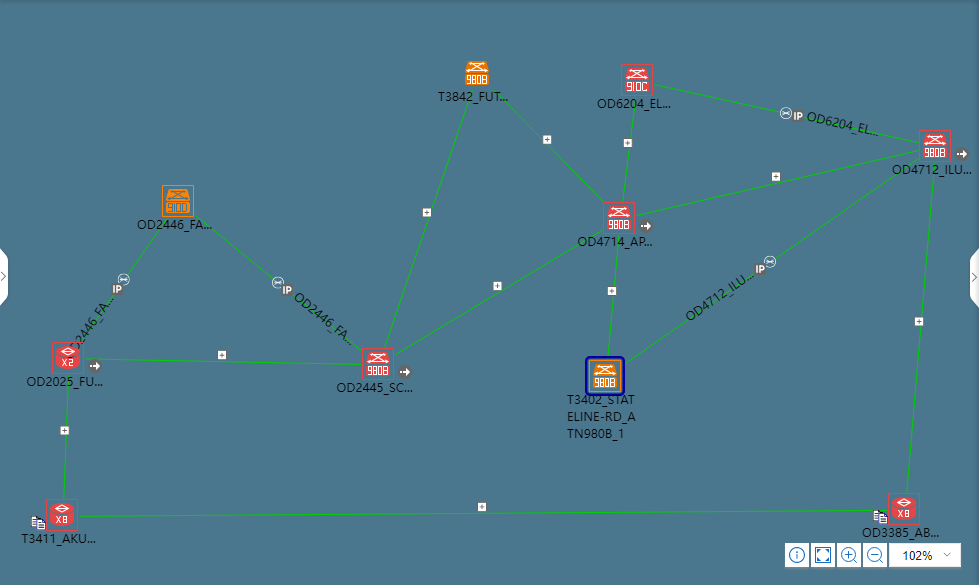ATN_Orange: (162, 185, 190, 214), (590, 363, 618, 390), (468, 63, 491, 84)
ATN_Red: (621, 63, 656, 98), (603, 204, 638, 231), (364, 351, 393, 380), (921, 130, 948, 159)
Link_Green: (627, 161, 910, 360), (395, 228, 600, 354), (382, 88, 479, 349), (199, 216, 363, 355), (639, 149, 913, 221), (652, 81, 916, 146), (493, 88, 607, 198), (903, 161, 936, 496), (83, 216, 173, 335), (125, 357, 359, 364), (609, 234, 626, 317), (621, 100, 636, 188), (64, 375, 75, 407)
Router_Red: (890, 497, 919, 527), (46, 504, 75, 533), (52, 345, 81, 374)
